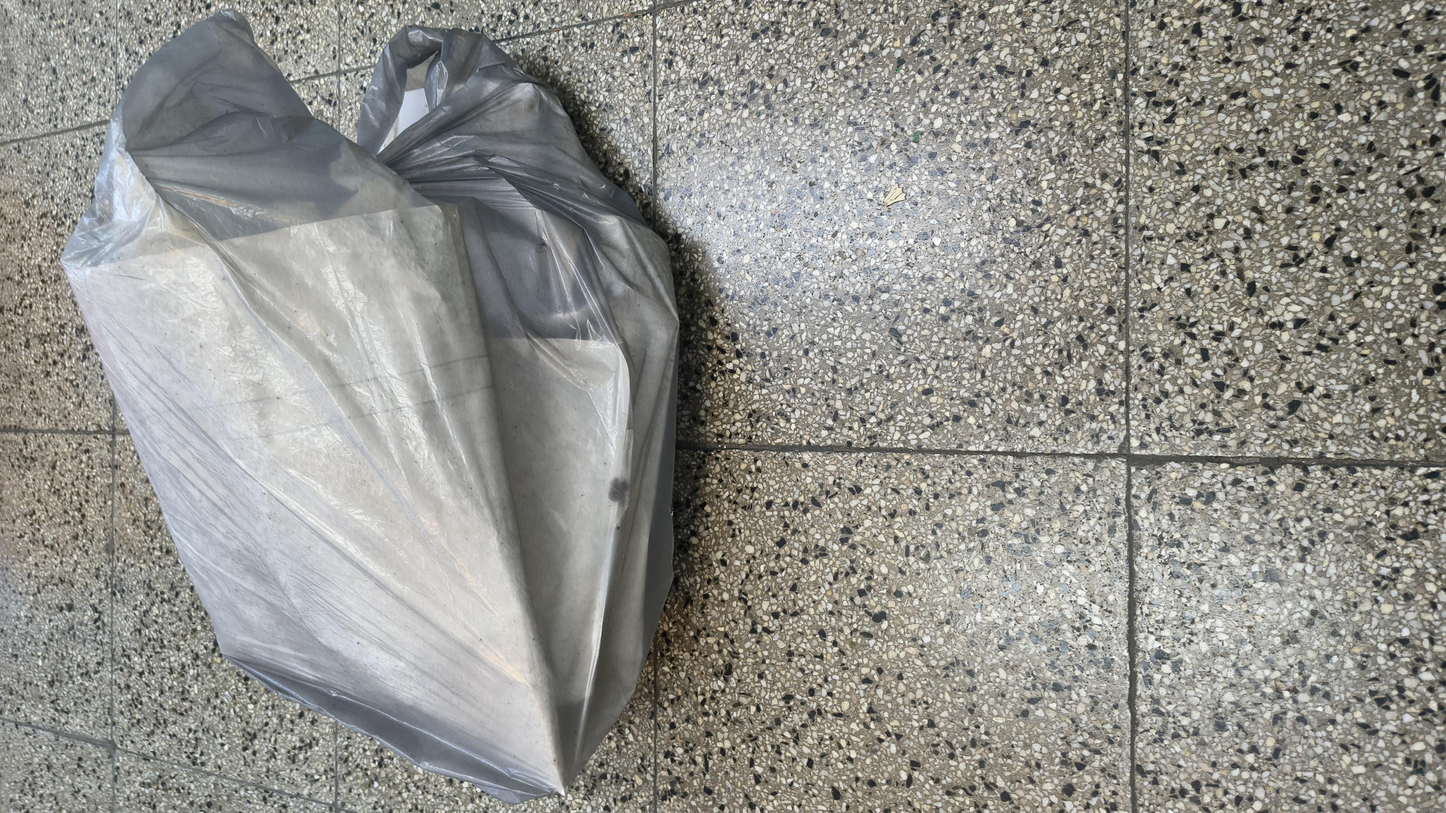Garbage: (25, 26, 1446, 411)
